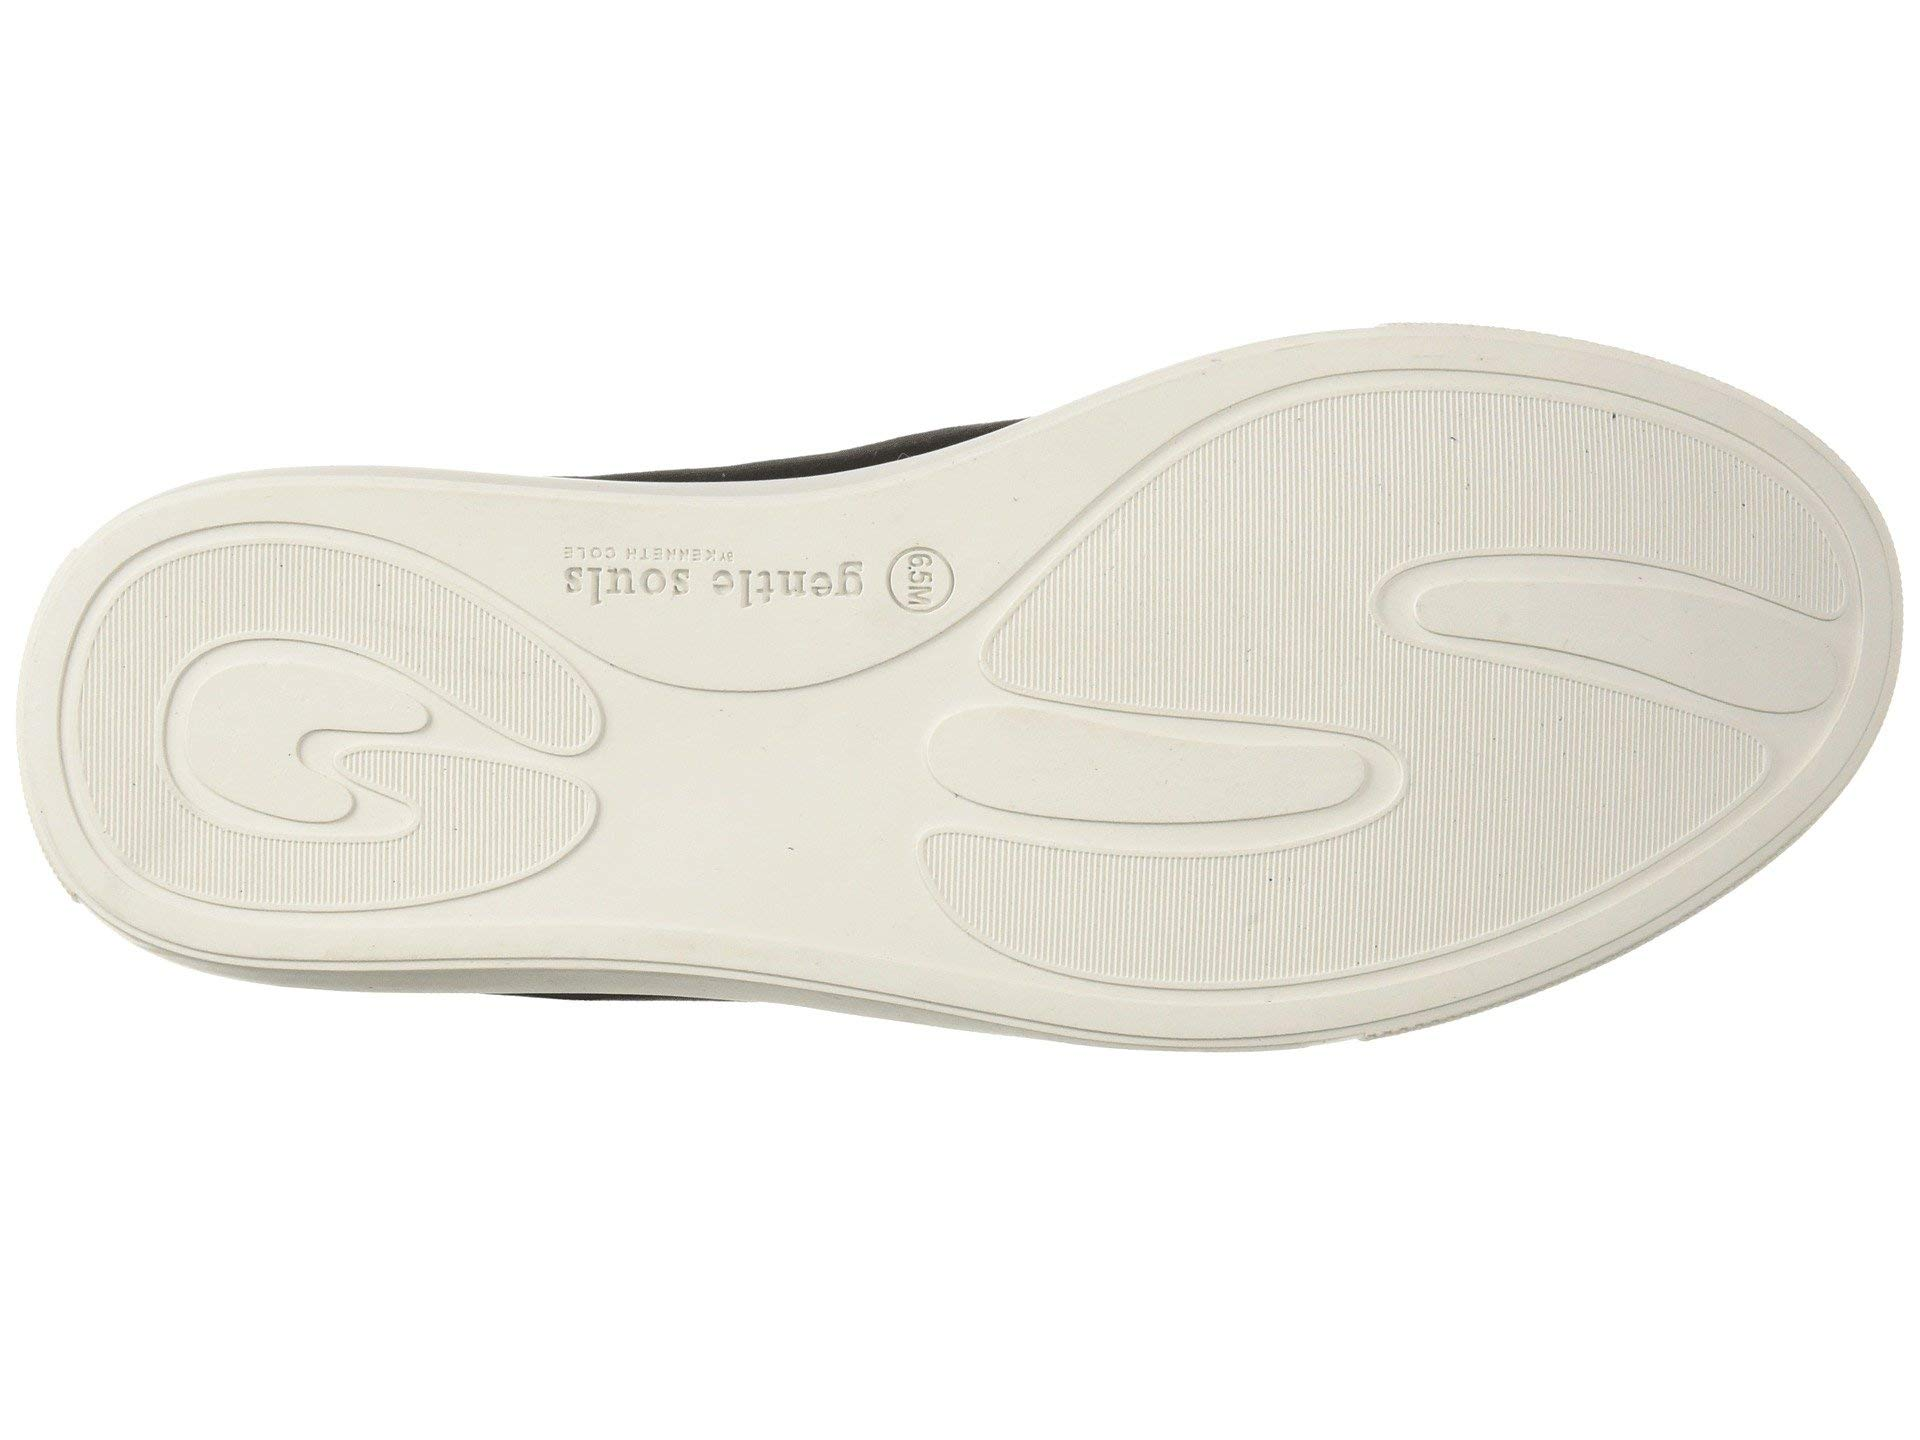chevron: (907, 681, 1420, 882)
circle: (907, 681, 1420, 882), (547, 520, 875, 614), (884, 529, 978, 623)
line: (907, 681, 1420, 882), (1163, 479, 1346, 650), (1356, 358, 1492, 507), (426, 773, 582, 898)
text: (547, 520, 875, 614), (884, 529, 978, 623)
